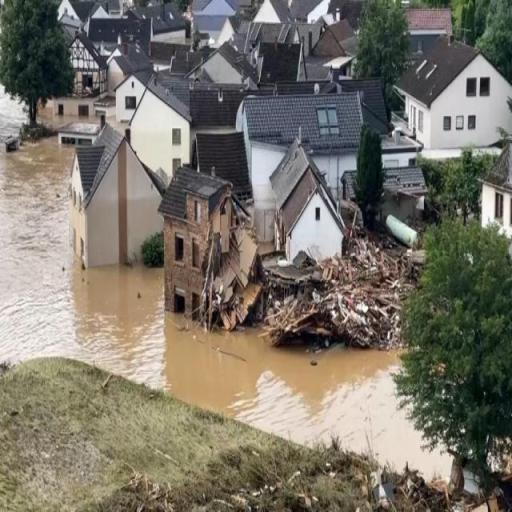flood: (0, 140, 450, 478)
house: (396, 42, 512, 152), (75, 128, 156, 276), (162, 168, 234, 318), (272, 134, 354, 262), (238, 91, 369, 151), (130, 80, 193, 158), (188, 42, 259, 87), (68, 33, 106, 96), (191, 1, 246, 42), (316, 17, 360, 61), (409, 6, 458, 44), (113, 71, 147, 117), (252, 0, 286, 29), (58, 0, 86, 26)
